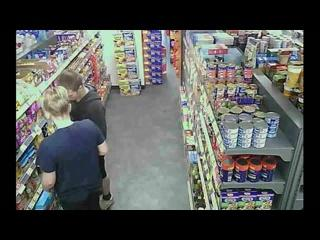shoplifting: (35, 86, 109, 210), (55, 70, 114, 209)
